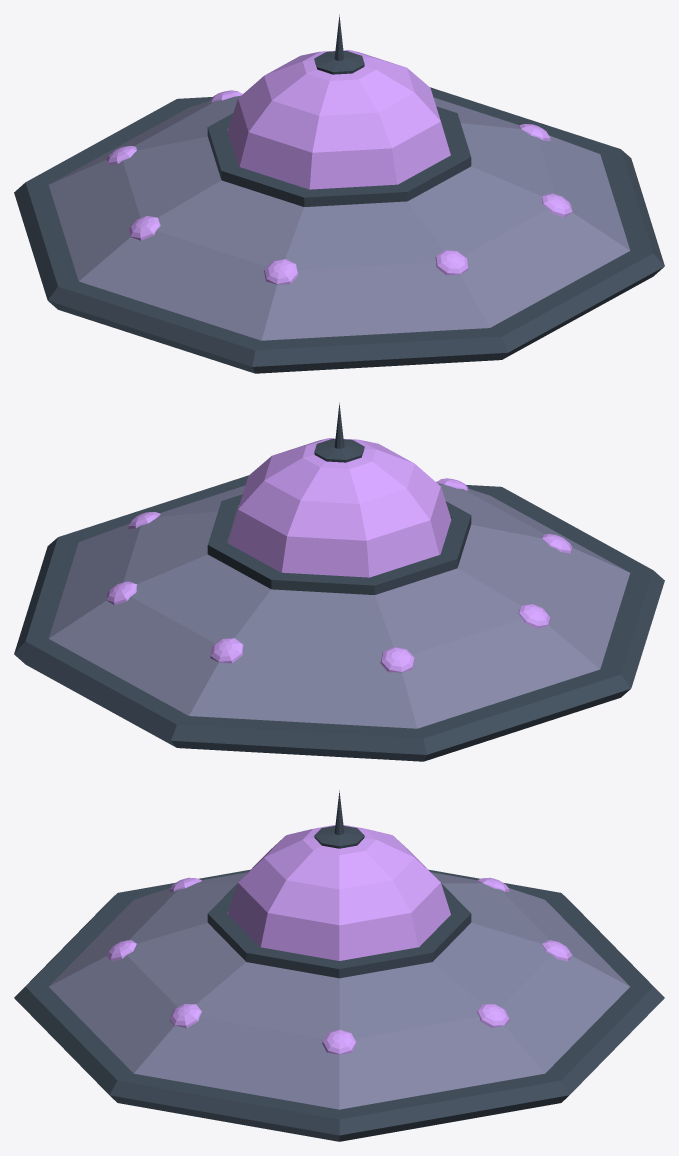
Rendered from ufo.glb.
The picture shows the model from 3 angles, top to bottom: view 1: azimuth 30°, elevation 25°; view 2: azimuth 150°, elevation 25°; view 3: azimuth 270°, elevation 25°; orthographic projection. The views are drawn at different scales.
Visible parts, largest first — view 1: flying_sacuer:Mesh; view 2: flying_sacuer:Mesh; view 3: flying_sacuer:Mesh.
Part boxes in pixels (x1,y1,x2,y2): flying_sacuer:Mesh: (14, 14, 664, 373); flying_sacuer:Mesh: (14, 402, 664, 761); flying_sacuer:Mesh: (14, 790, 664, 1141).
Bounding box in the file's own units: 1.86 × 0.8683 × 1.86.
